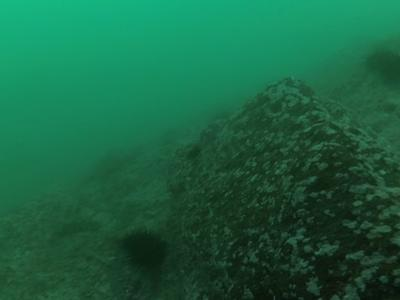urchin: (117, 224, 170, 274), (367, 47, 395, 89)
